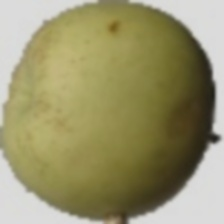apple: (12, 25, 211, 176)
